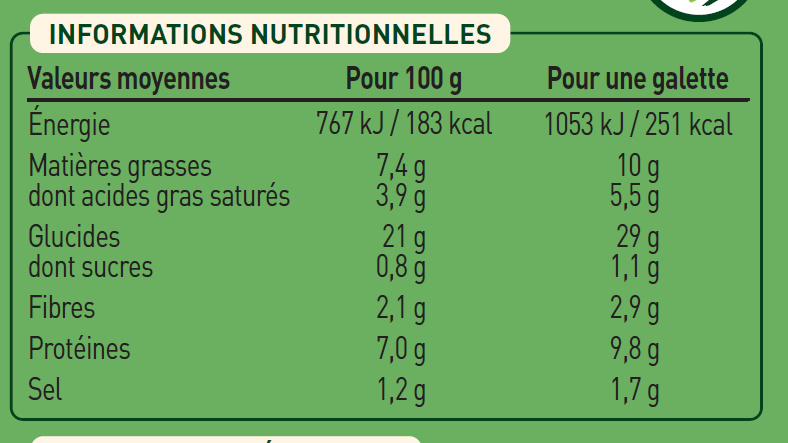column: (25, 64, 290, 403), (544, 62, 735, 407), (317, 63, 494, 407)
table: (7, 11, 765, 427)
